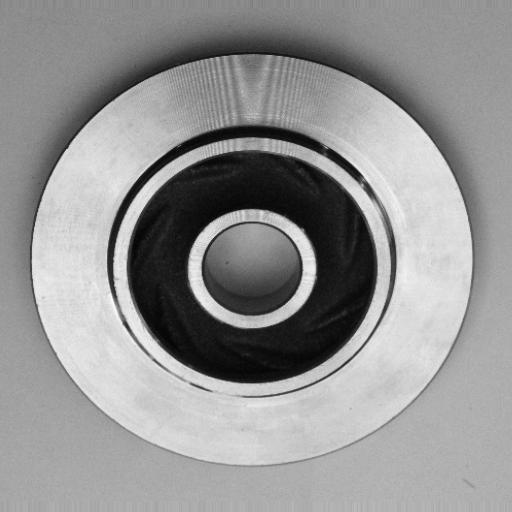unpolished_casting: (30, 51, 476, 465)
